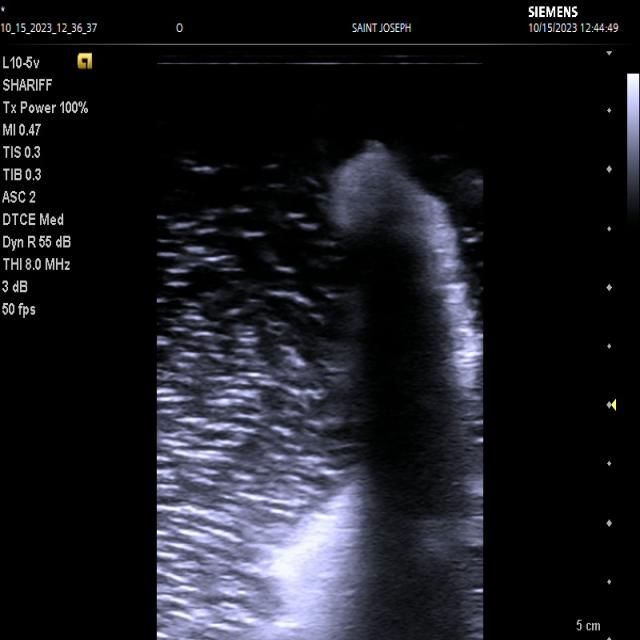tissue: (289, 144, 481, 640)
